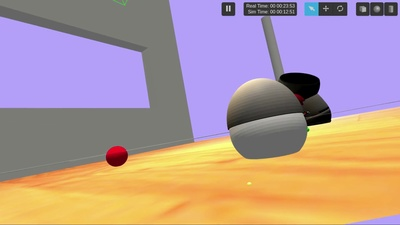mira_robot: (227, 78, 308, 160)
